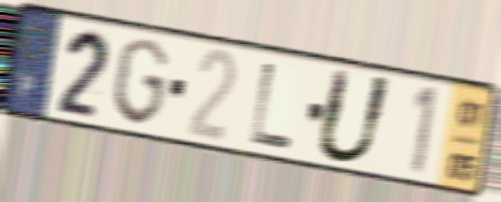1: (410, 85, 439, 181)
2: (52, 24, 114, 124), (183, 46, 242, 146)
G: (110, 35, 172, 129)
L: (247, 58, 296, 153)
U: (312, 64, 397, 168)
